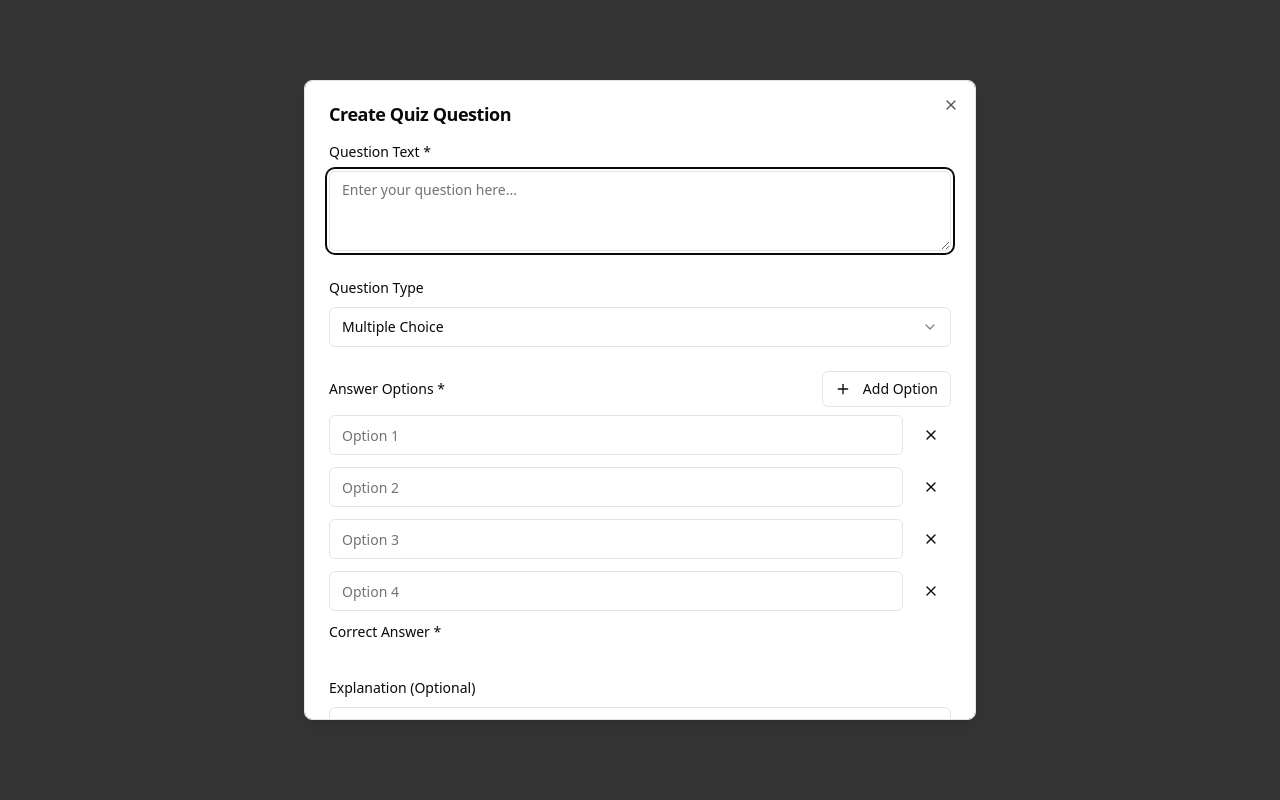
it: QuizEditor › Creating a new question › allows user to select question type
Click the dropdown at (393, 326), box [329,307,951,347]
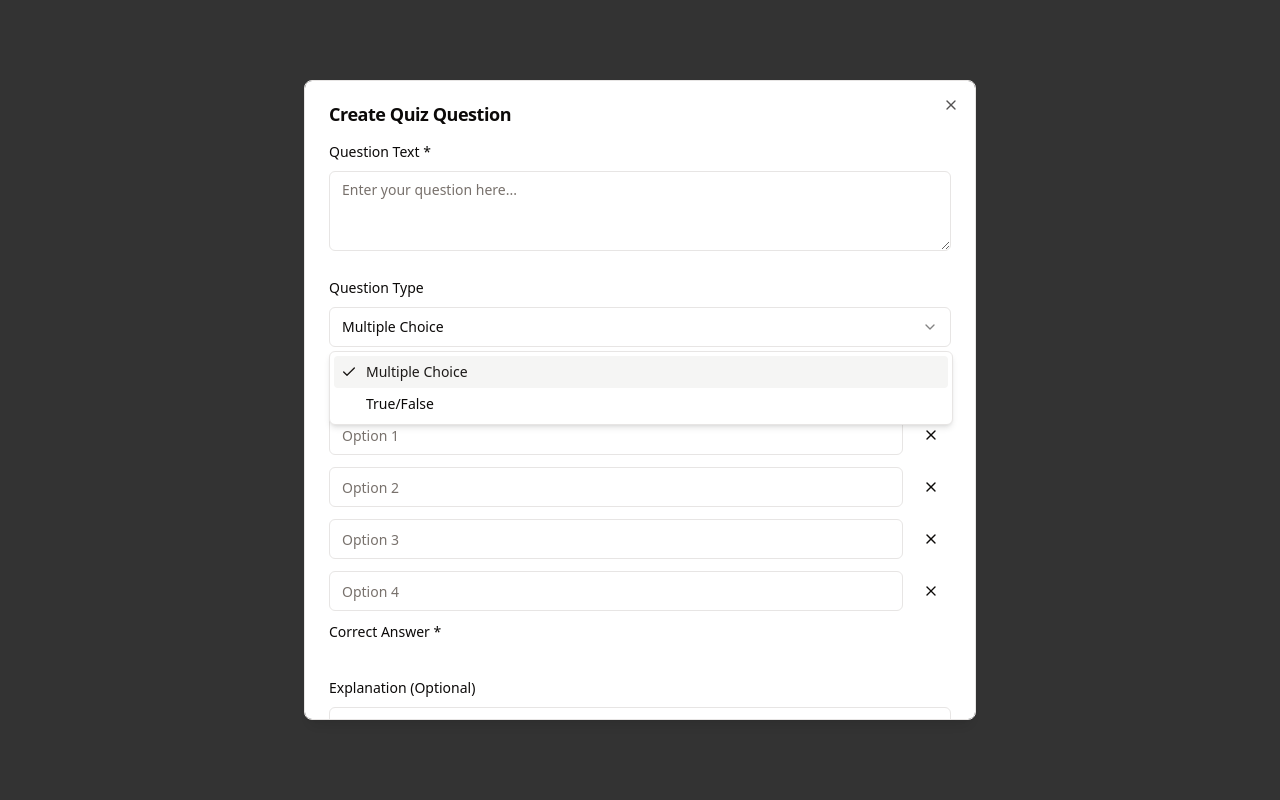
Click the option "True/False" at (400, 404), box [366,394,434,413]
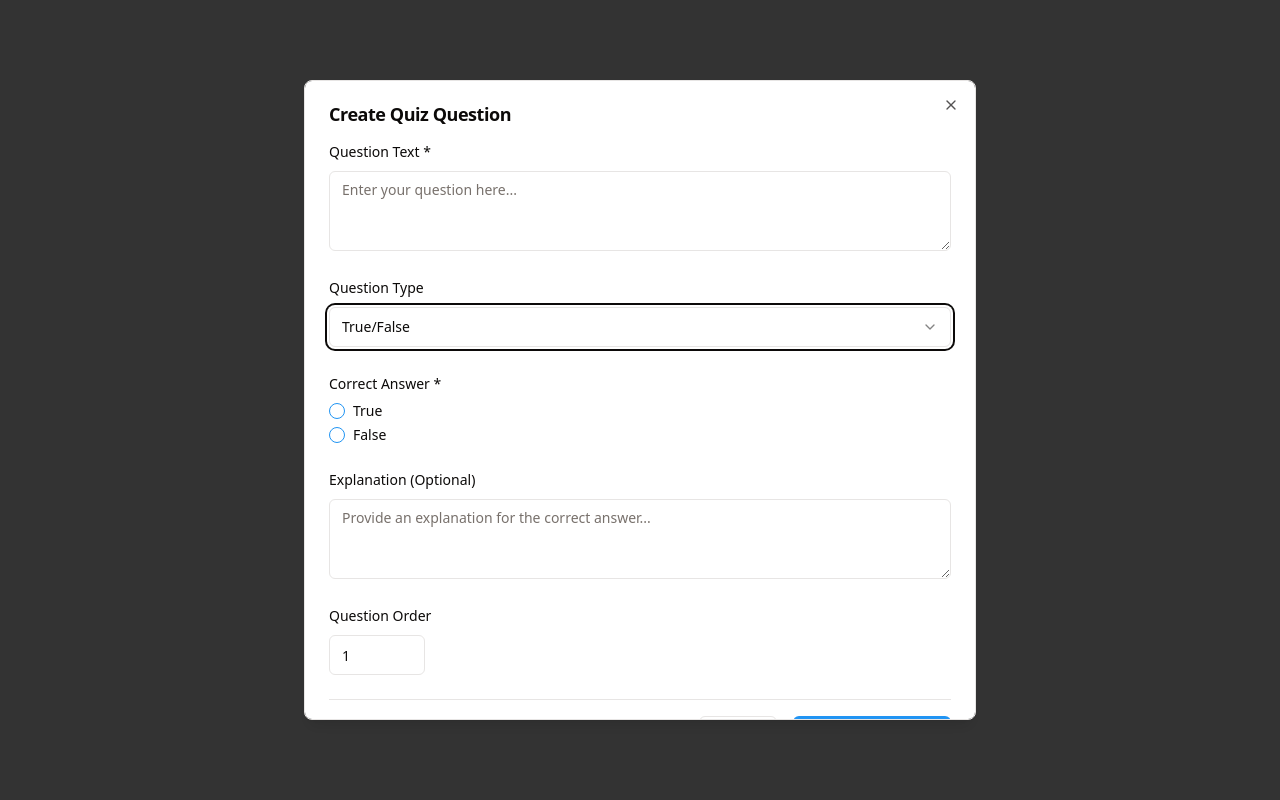
Now the text "True/False" is shown, box [342,317,410,337]
